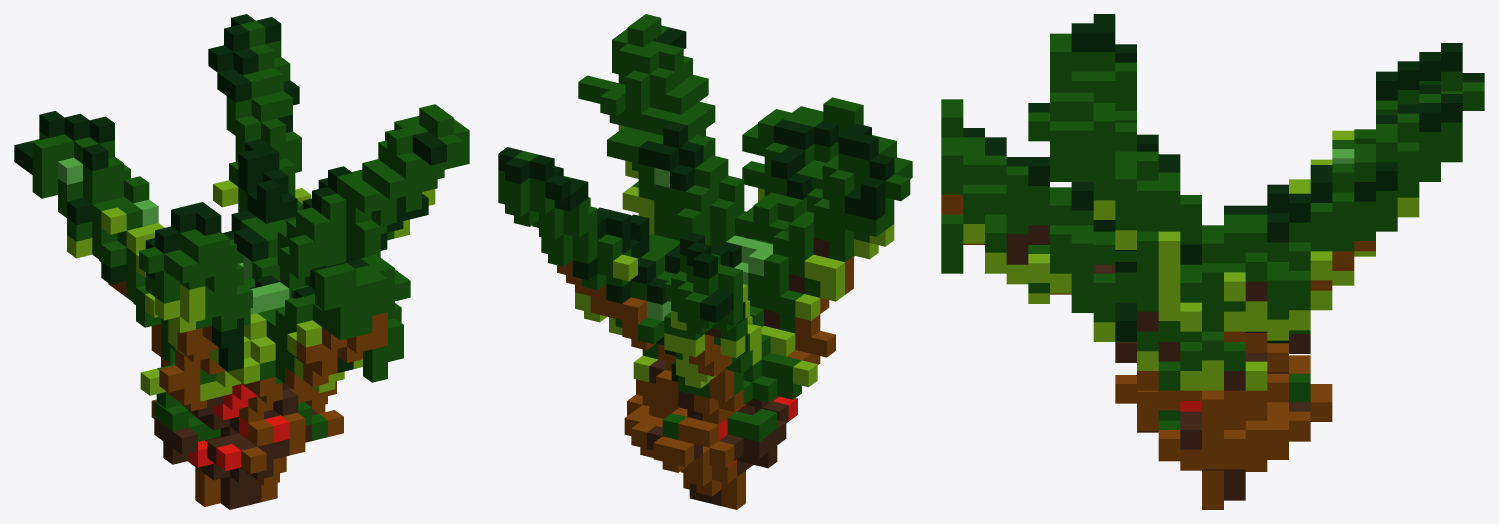
The model's file is Drago_Carlos_Ernesto_Correa_Rodríguez_fase_3.obj.
3 renders of one model, left to right at view 1: azimuth 30°, elevation 25°; view 2: azimuth 150°, elevation 25°; view 3: azimuth 270°, elevation 25°, orthographic. The views are drawn at different scales.
Parts seen in each view (by area): view 1: Drago_Carlos_Ernesto_Correa_Rodríguez_fase_3; view 2: Drago_Carlos_Ernesto_Correa_Rodríguez_fase_3; view 3: Drago_Carlos_Ernesto_Correa_Rodríguez_fase_3.
Part boxes in pixels (x1,y1,x2,y2): Drago_Carlos_Ernesto_Correa_Rodríguez_fase_3: (14,14,469,509); Drago_Carlos_Ernesto_Correa_Rodríguez_fase_3: (498,14,912,509); Drago_Carlos_Ernesto_Correa_Rodríguez_fase_3: (941,14,1484,509).
Size of the model in its own units: 20 by 24 by 25.
